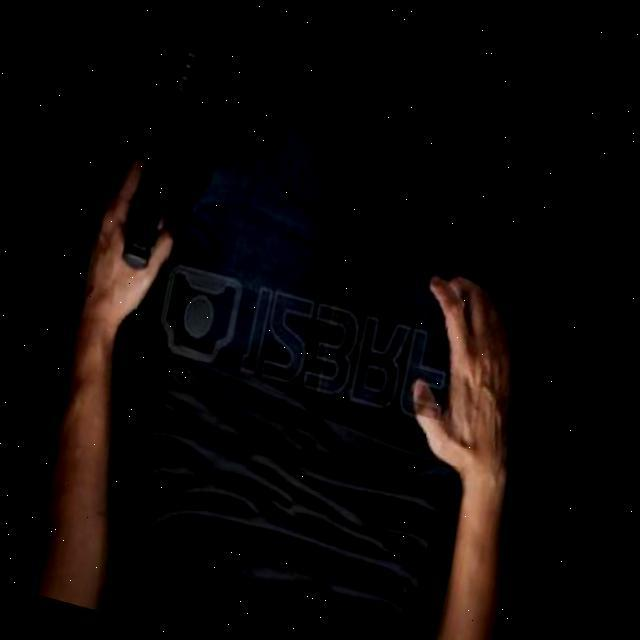gun: (113, 6, 214, 278)
